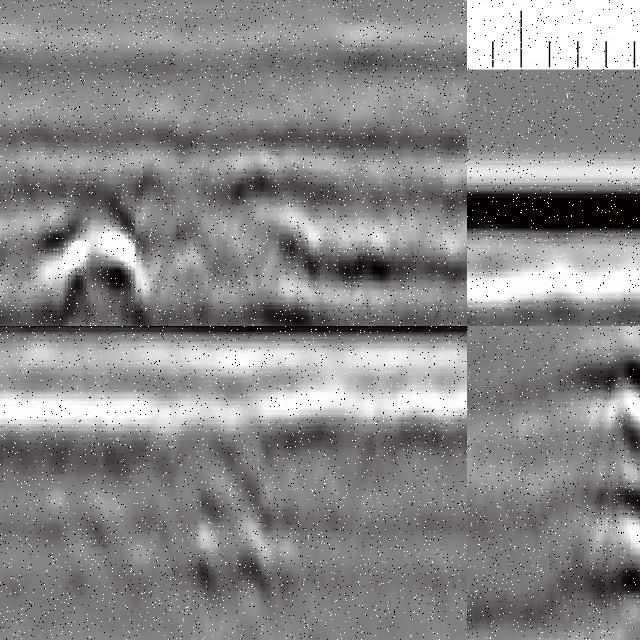loose: (34, 153, 374, 327), (55, 404, 312, 598), (566, 327, 640, 640)
